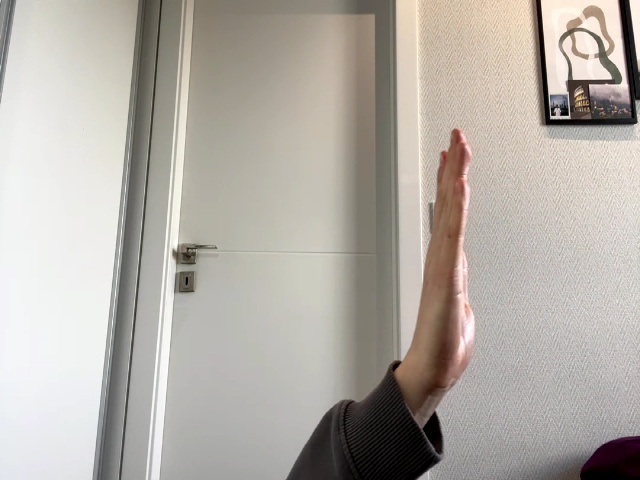SZ: (414, 129, 475, 392)
